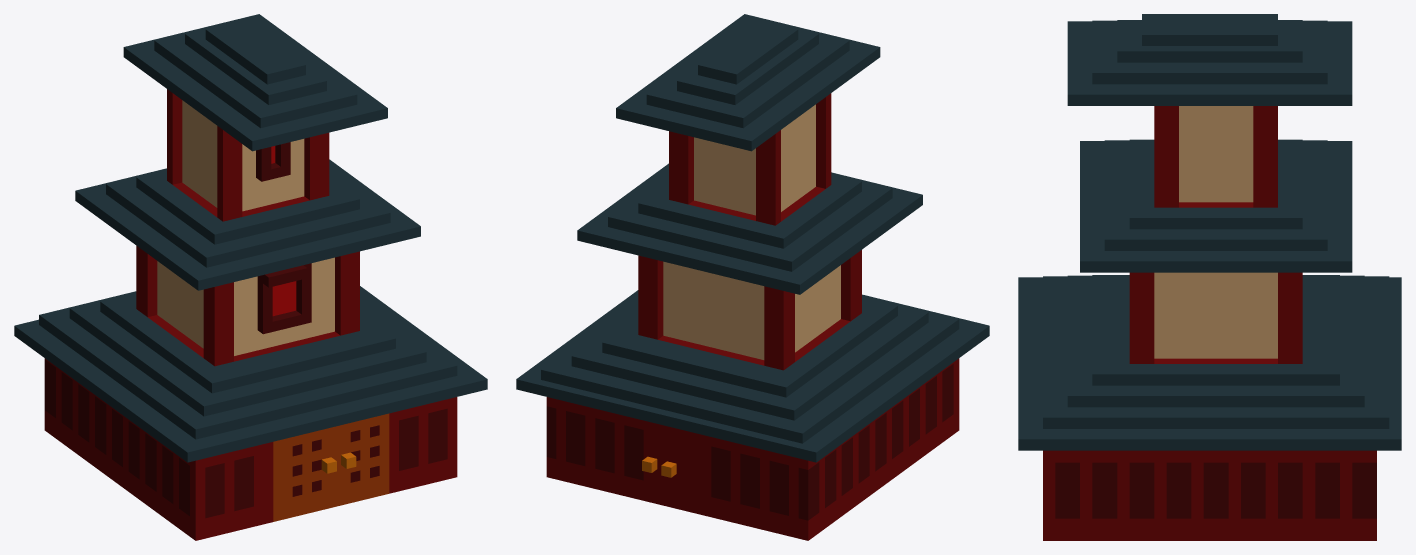
Rendered from temple.obj.
The picture shows the model from 3 angles, left to right: view 1: azimuth 30°, elevation 25°; view 2: azimuth 150°, elevation 25°; view 3: azimuth 270°, elevation 25°; orthographic projection. The views are drawn at different scales.
Size of the model in its own units: 3.1 by 4 by 3.1.
1 material, 1 textured.
